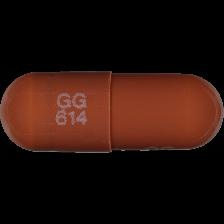21695-337: (0, 0, 224, 224)
